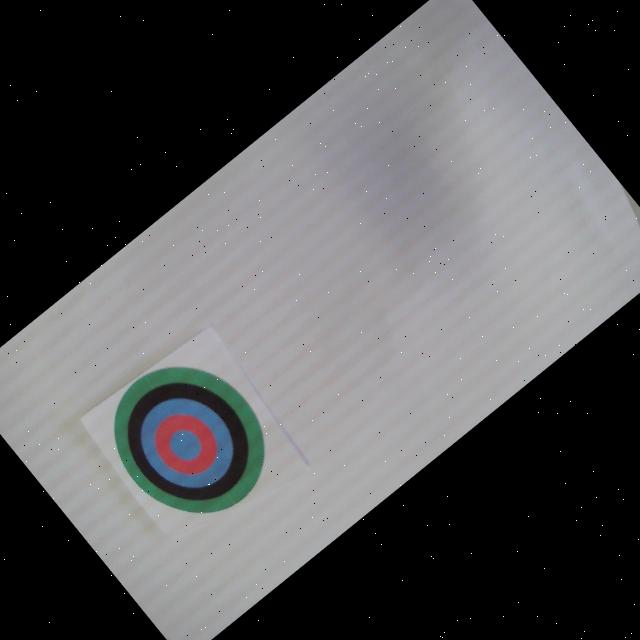COGNITIVE: (85, 332, 294, 544)
